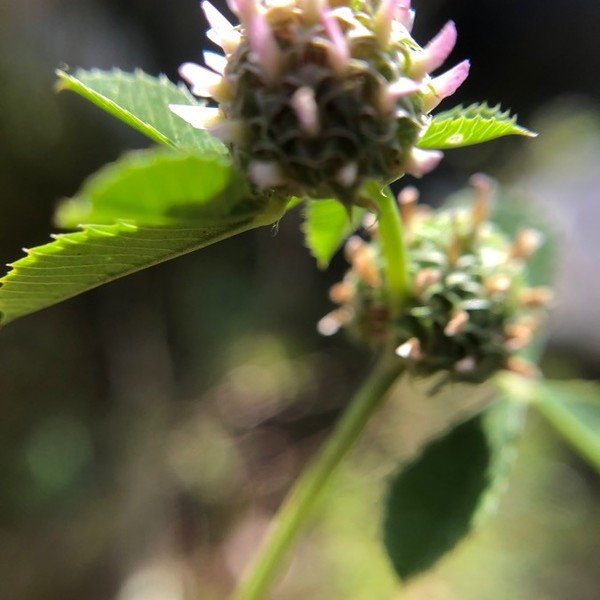obstacle: (34, 26, 576, 406)
